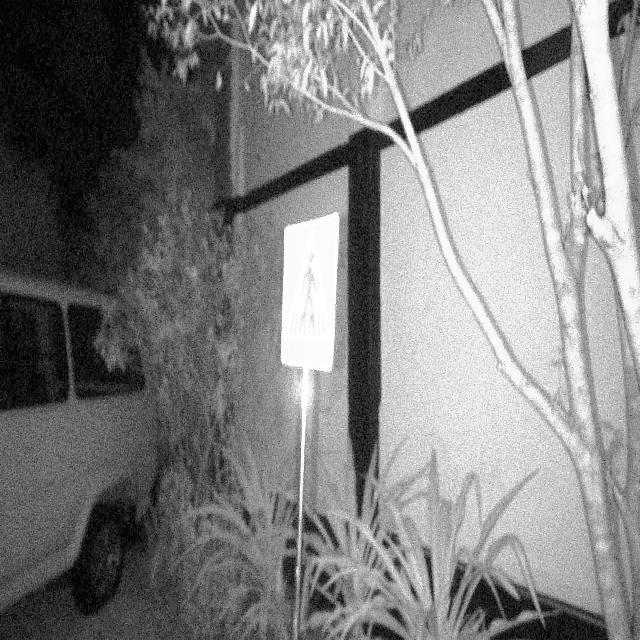Sign: (280, 210, 342, 376)
Tree: (381, 1, 640, 639)
